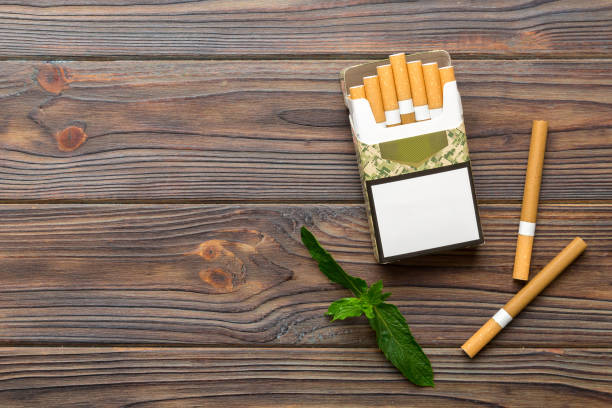cigarette: (339, 45, 487, 267), (459, 236, 587, 361), (511, 119, 548, 283), (388, 52, 417, 124), (376, 62, 402, 127), (406, 57, 431, 121), (421, 61, 444, 119), (363, 74, 386, 128), (437, 62, 455, 84), (348, 83, 366, 100)
